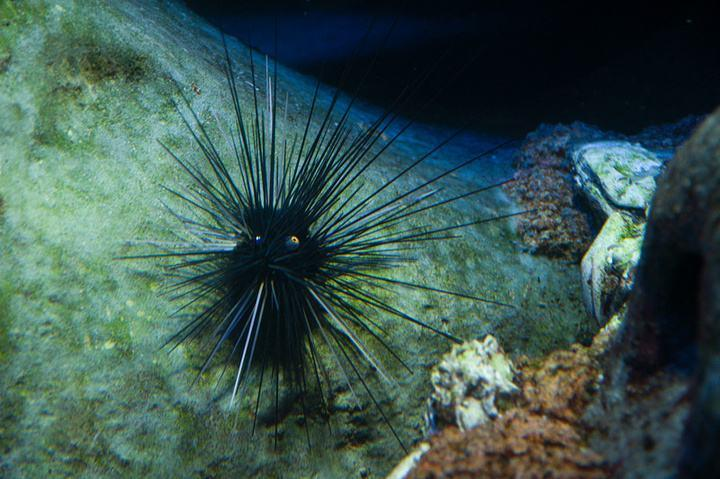urchin: (113, 39, 529, 444)
